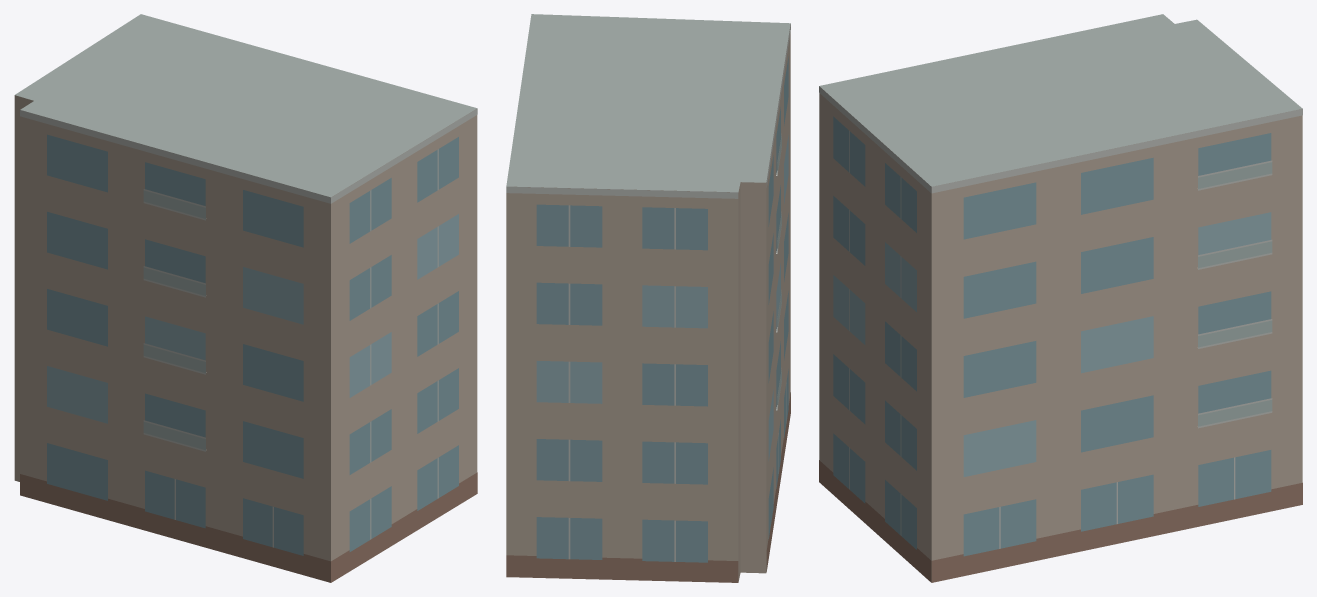
Rendered from survey-upis-32836440.glb.
The picture shows the model from 3 angles, left to right: view 1: azimuth 30°, elevation 25°; view 2: azimuth 150°, elevation 25°; view 3: azimuth 270°, elevation 25°; orthographic projection. The views are drawn at different scales.
Parts seen in each view (by area): view 1: survey-upis-32836440.tmp; view 2: survey-upis-32836440.tmp; view 3: survey-upis-32836440.tmp.
Part boxes in pixels (left/top/right/bottom): survey-upis-32836440.tmp: left=14, top=14, right=477, bottom=582; survey-upis-32836440.tmp: left=506, top=14, right=790, bottom=582; survey-upis-32836440.tmp: left=819, top=14, right=1302, bottom=582.
Size of the model in its own units: 13.58 by 14.5 by 16.06.
